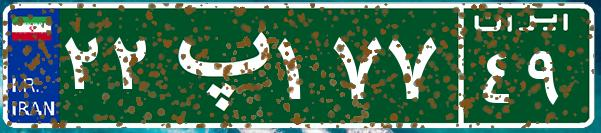1: (273, 28, 330, 110)
2: (57, 26, 110, 107), (110, 28, 158, 105)
4: (475, 38, 525, 113)
7: (385, 28, 445, 110), (330, 28, 385, 110)
9: (525, 38, 570, 115)
پ: (158, 15, 273, 115)
